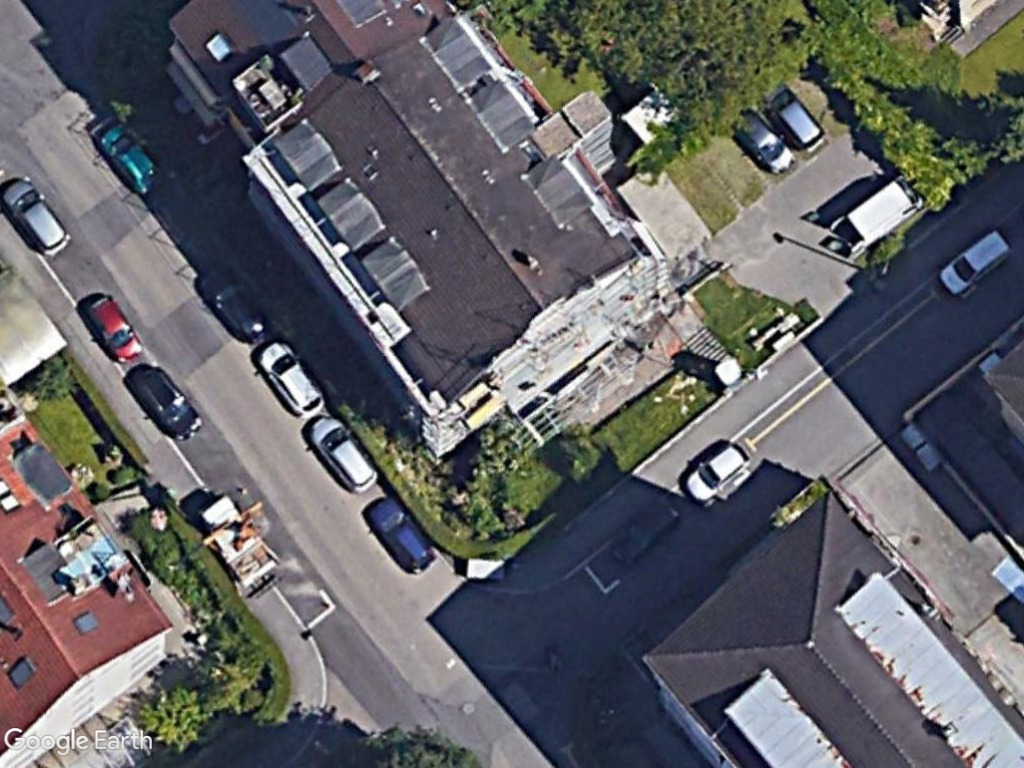car: (355, 494, 441, 576), (299, 411, 379, 497), (254, 336, 329, 421), (0, 173, 72, 261), (98, 121, 165, 195), (682, 438, 756, 503), (82, 294, 143, 364)
van: (937, 227, 1014, 296)
